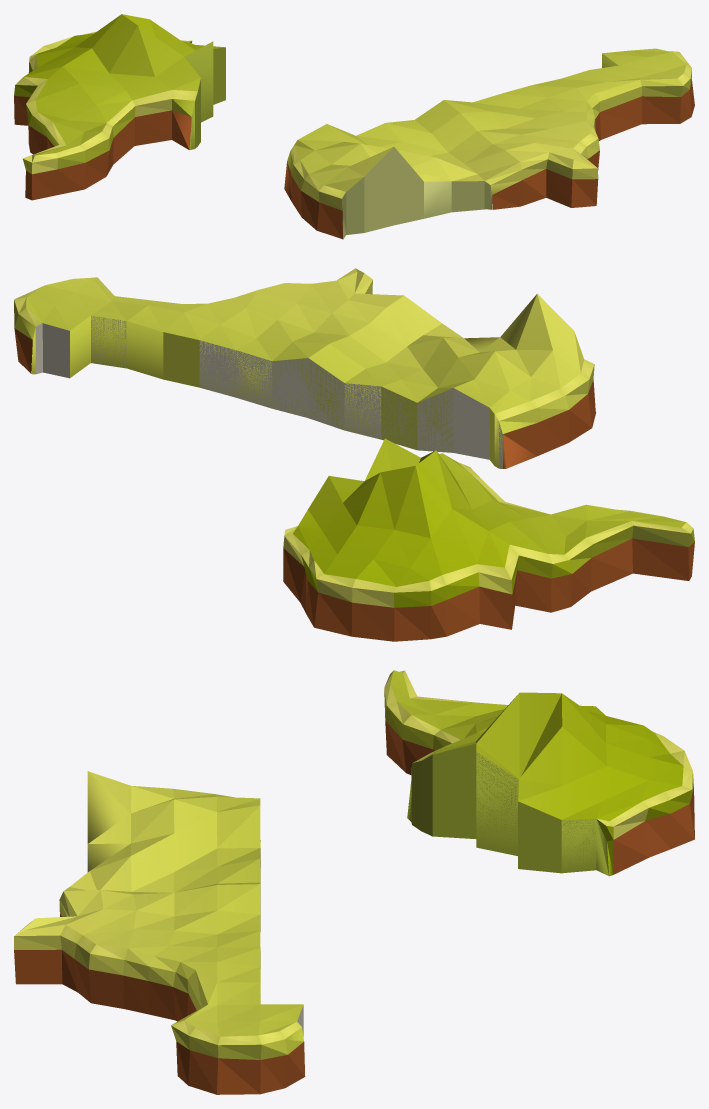
Rendered from northAmerica_America.glb.
3 renders of one model, top to bottom at view 1: azimuth 30°, elevation 25°; view 2: azimuth 150°, elevation 25°; view 3: azimuth 270°, elevation 25°, orthographic. The views are drawn at different scales.
Visible parts, largest first — view 1: northAmerica_America; view 2: northAmerica_America; view 3: northAmerica_America.
Part boxes in pixels (left/top/right/bottom): northAmerica_America: left=14, top=14, right=694, bottom=239; northAmerica_America: left=14, top=268, right=694, bottom=641; northAmerica_America: left=14, top=670, right=694, bottom=1094.
Bounding box in the file's own units: 5.73 × 0.9366 × 4.39.
Materials: 3 (1 with a texture image).
